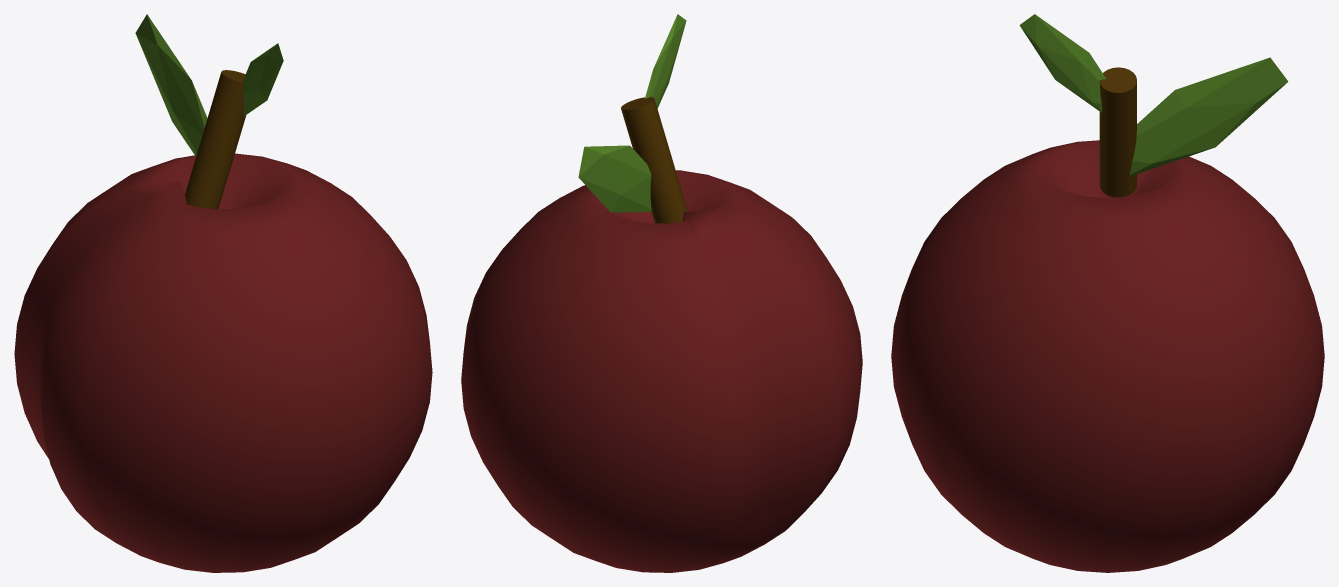
Rendered from Apple.fbx.
3 views of the same model, side by side, from view 1: azimuth 30°, elevation 25°; view 2: azimuth 150°, elevation 25°; view 3: azimuth 270°, elevation 25° (orthographic). The views are drawn at different scales.
Parts seen in each view (by area): view 1: pSphere1, pCylinder1, pPlatonic2, pPlatonic1; view 2: pSphere1, pCylinder1, pPlatonic2, pPlatonic1; view 3: pSphere1, pPlatonic2, pCylinder1, pPlatonic1.
Part boxes in pixels (x1,y1,x2,y2): pSphere1: (14, 153, 432, 572); pCylinder1: (185, 70, 246, 209); pPlatonic2: (135, 14, 207, 156); pPlatonic1: (243, 43, 283, 116); pSphere1: (461, 170, 862, 572); pCylinder1: (621, 97, 687, 223); pPlatonic2: (578, 145, 651, 212); pPlatonic1: (645, 14, 686, 108); pSphere1: (891, 140, 1324, 572); pPlatonic2: (1130, 57, 1288, 176); pCylinder1: (1099, 67, 1136, 197); pPlatonic1: (1019, 14, 1106, 112).
Bounding box in the file's own units: 1.51 × 2.1 × 1.51.
